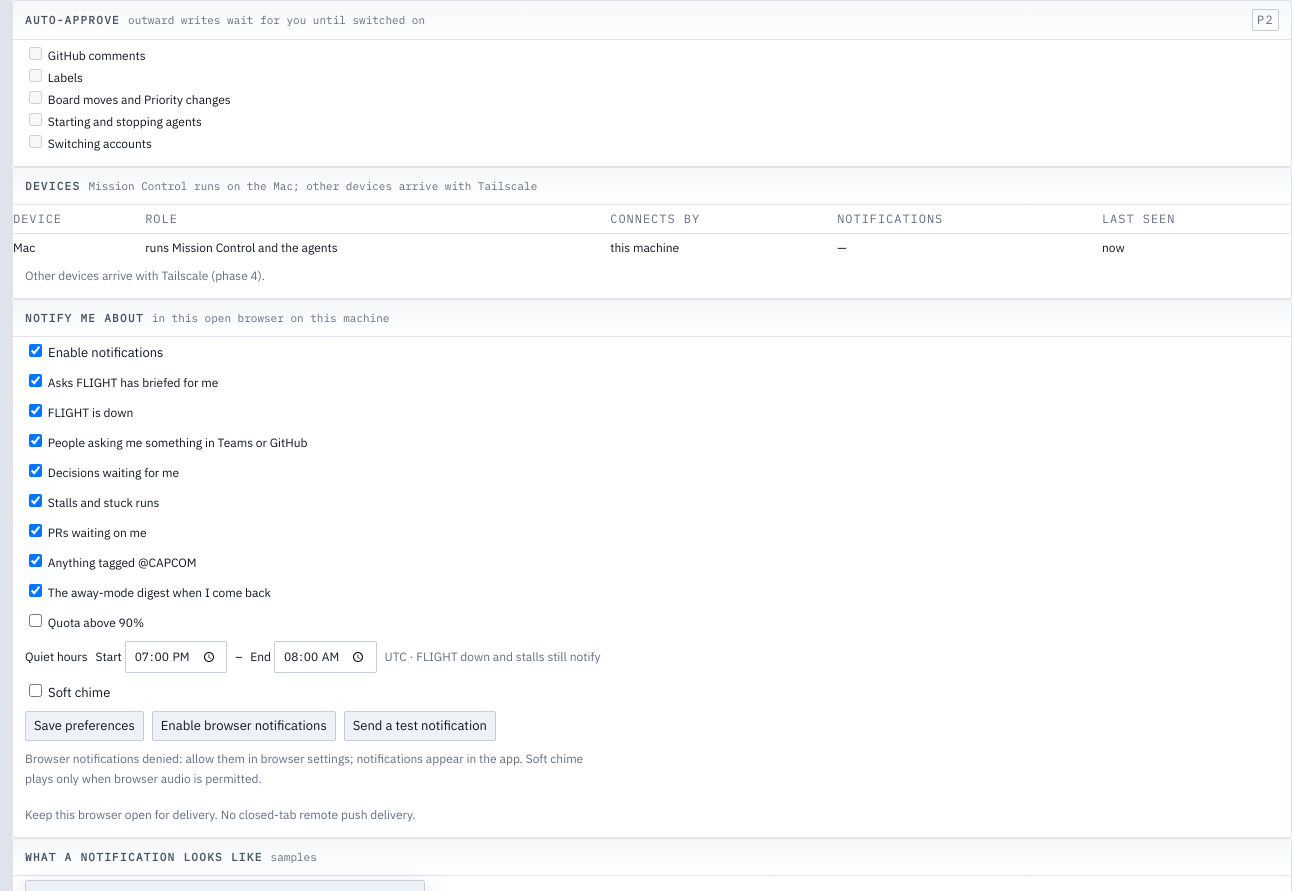
follows refreshed preferences until edited and saves only edited fields
Expected: the checkbox labelled "Soft chime" is not checked, [29,684,42,697]
Click the checkbox labelled "Quota above 90%" at (36, 620), box [29,614,42,627]
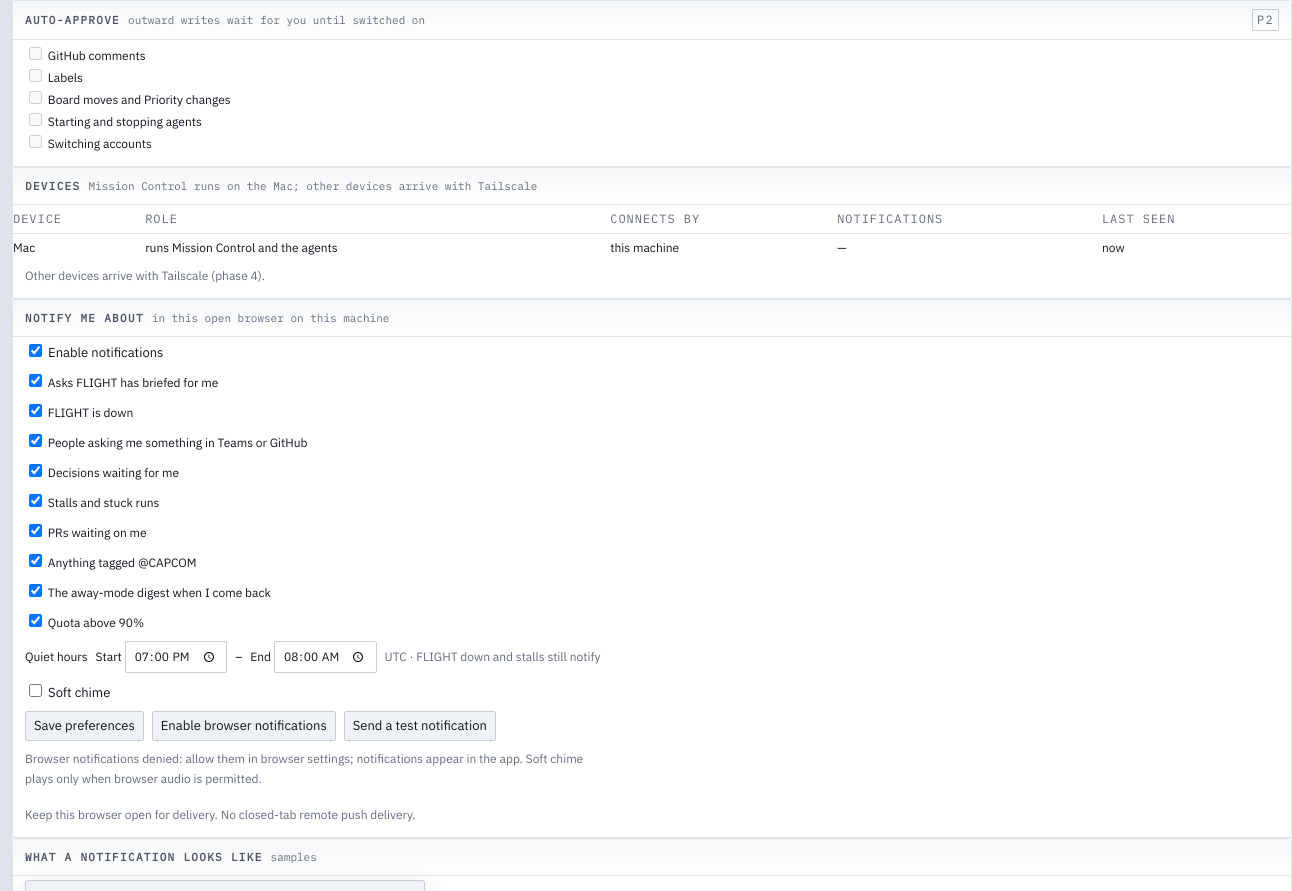
Replace the text in the time field named "Quiet hours start" with "21:00" at (176, 657), box [125,641,227,673]
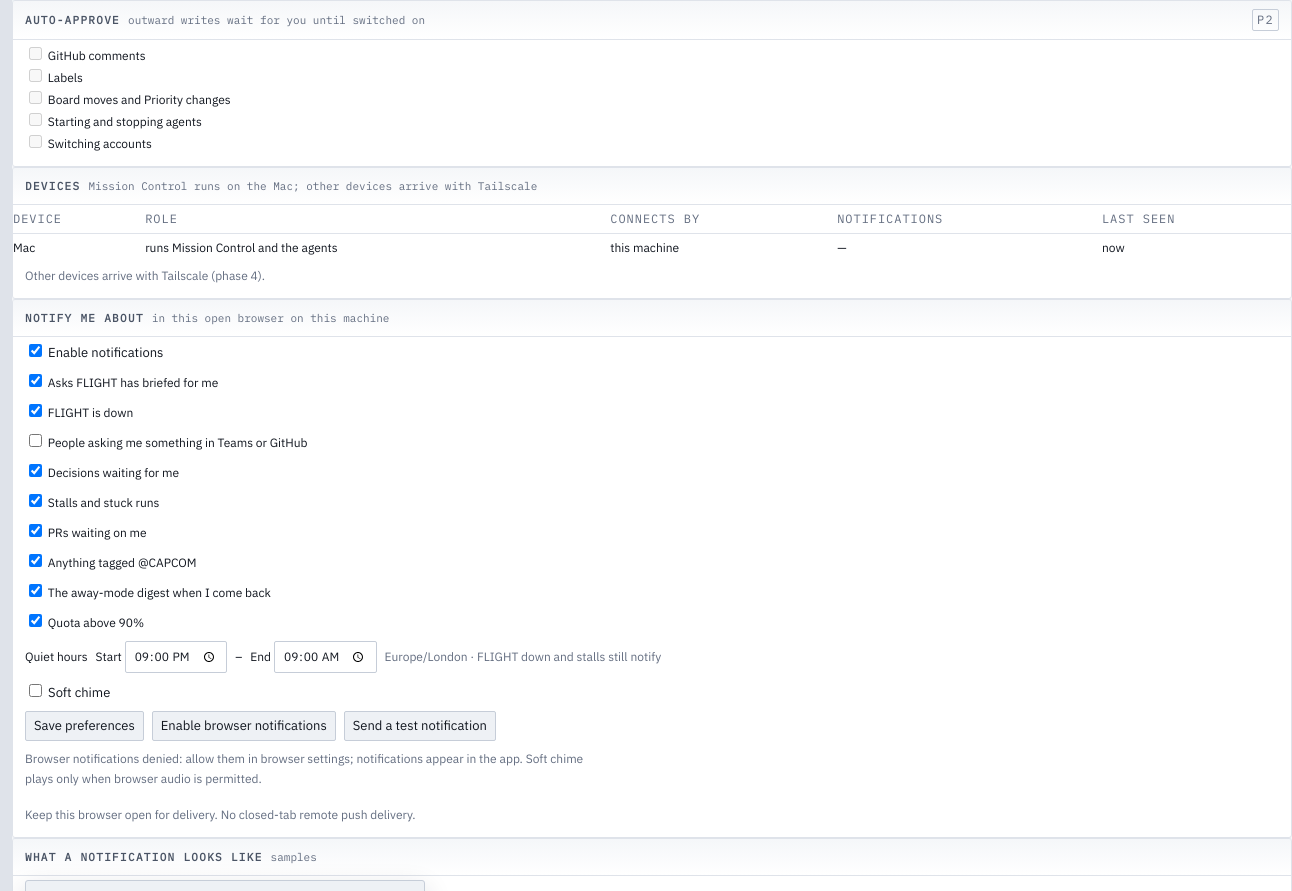
Expected: the time field named "Quiet hours end" holds "09:00", [274,641,376,673]
Expected: the checkbox labelled "Quota above 90%" is checked, [29,614,42,627]
Click the button "Save preferences" at (84, 726), box [25,711,144,741]
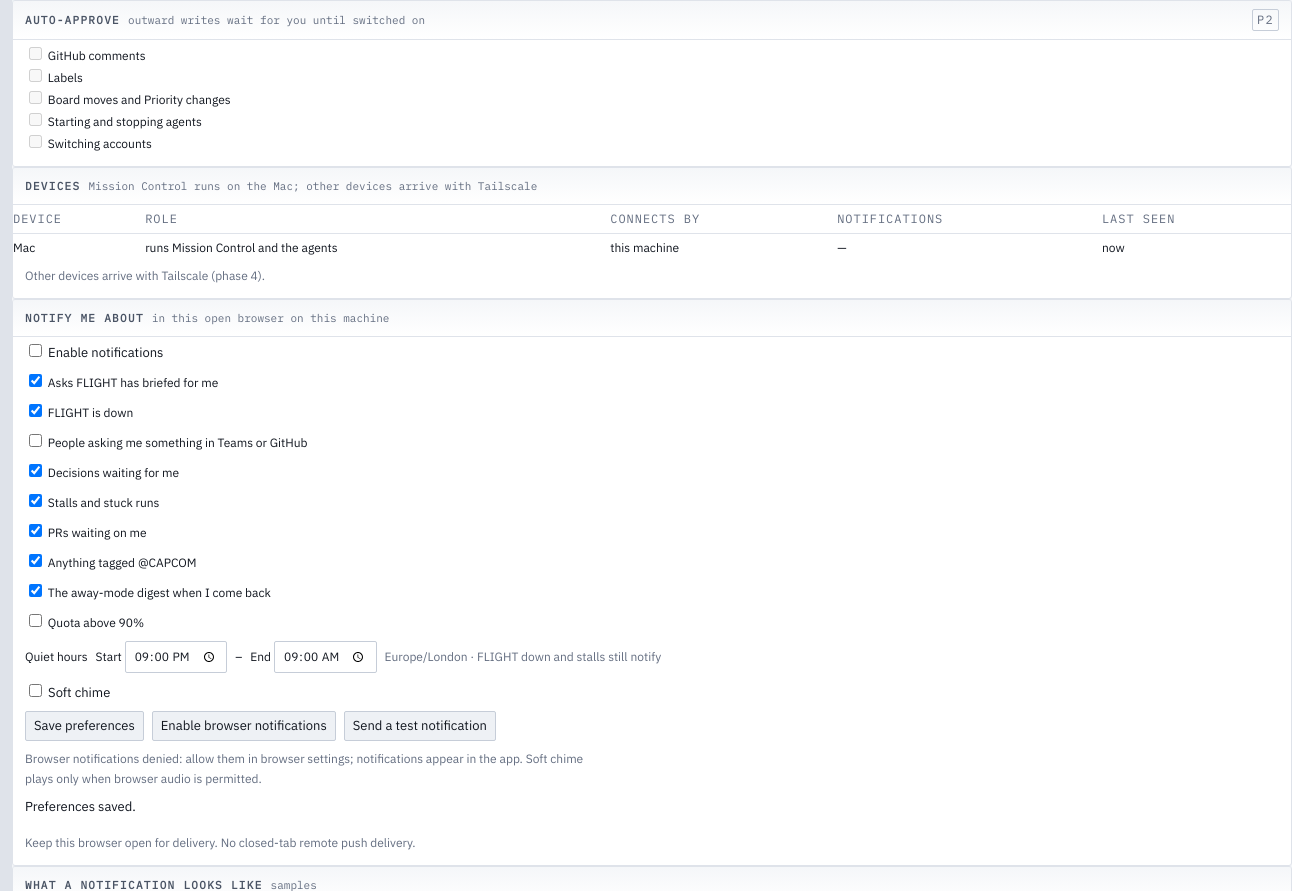
Expected: the checkbox labelled "Quota above 90%" is not checked, [29,614,42,627]
Expected: the text "Preferences saved." is shown, [25,798,136,815]
